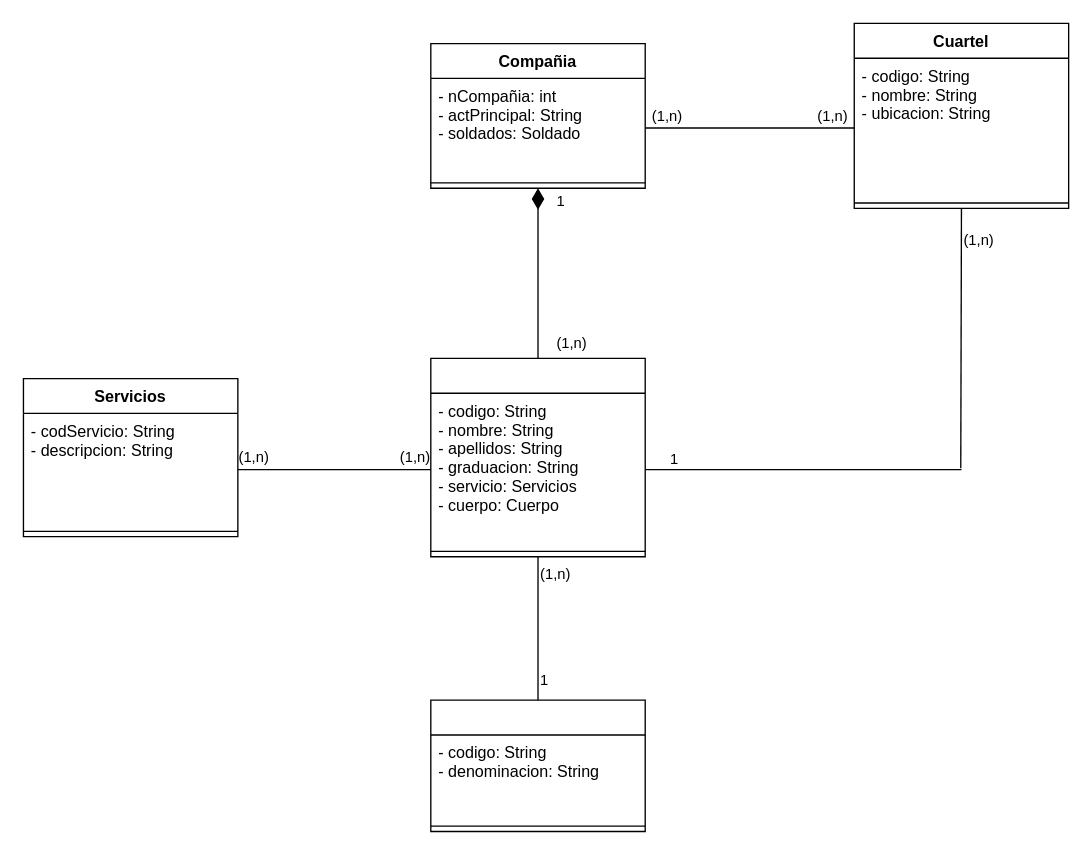
Image size: 1092x855. Some labels were removed from this diagram. The box of each missing label's shape, as (x1, y1, x2, y2) in pixels:
Cuerpo: (429, 699, 645, 831)
Soldado: (429, 357, 645, 557)
